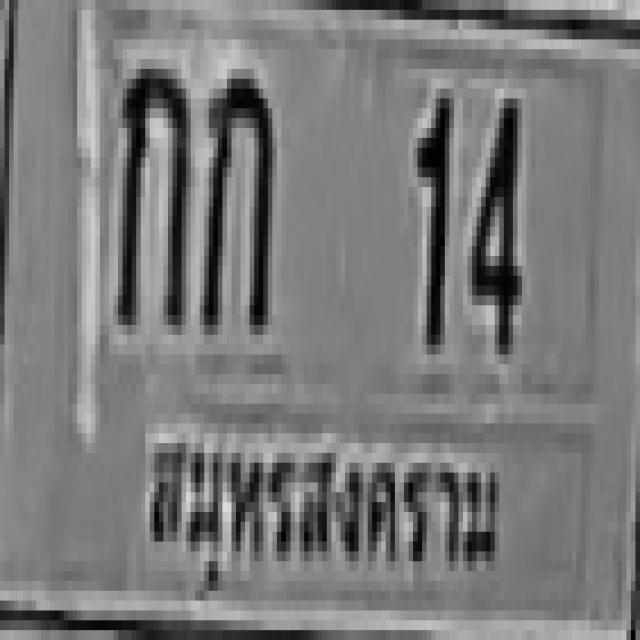1: (413, 88, 449, 344)
10GorGai: (114, 59, 186, 325), (200, 69, 268, 325)
4: (468, 88, 518, 344)
SamutSongkhram: (130, 414, 515, 618)
